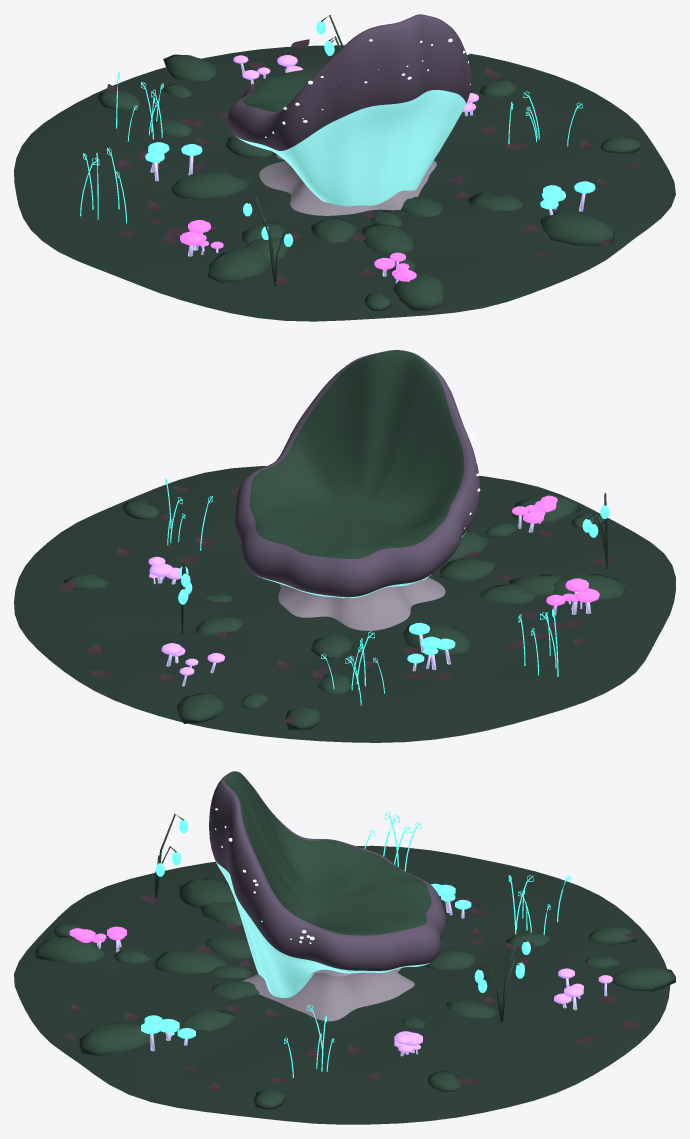
File: biolume_grove.glb
3 views of the same model, one above another, from view 1: azimuth 30°, elevation 25°; view 2: azimuth 150°, elevation 25°; view 3: azimuth 270°, elevation 25° (orthographic).
Parts seen in each view (by area): view 1: seat ground, seat cap, seat moss tufts, seat glow plants, seat stem, seat leaves; view 2: seat ground, seat cap, seat moss tufts, seat glow plants, seat stem, seat leaves; view 3: seat ground, seat cap, seat moss tufts, seat glow plants, seat stem, seat leaves.
Part boxes in pixels (<box>): seat ground: <box>14,45,675,321</box>; seat cap: <box>227,14,471,206</box>; seat moss tufts: <box>98,54,640,311</box>; seat glow plants: <box>80,15,595,286</box>; seat stem: <box>259,154,436,215</box>; seat leaves: <box>107,39,641,284</box>; seat ground: <box>14,466,675,742</box>; seat cap: <box>234,350,479,597</box>; seat moss tufts: <box>63,494,625,729</box>; seat glow plants: <box>148,478,609,705</box>; seat stem: <box>278,577,445,630</box>; seat leaves: <box>59,486,613,723</box>; seat ground: <box>14,845,670,1124</box>; seat cap: <box>209,771,445,997</box>; seat moss tufts: <box>33,878,675,1109</box>; seat glow plants: <box>69,811,612,1077</box>; seat stem: <box>242,968,414,1021</box>; seat leaves: <box>63,895,641,1090</box>.
Bounding box in the file's own units: 3.01 × 1.15 × 3.02.
